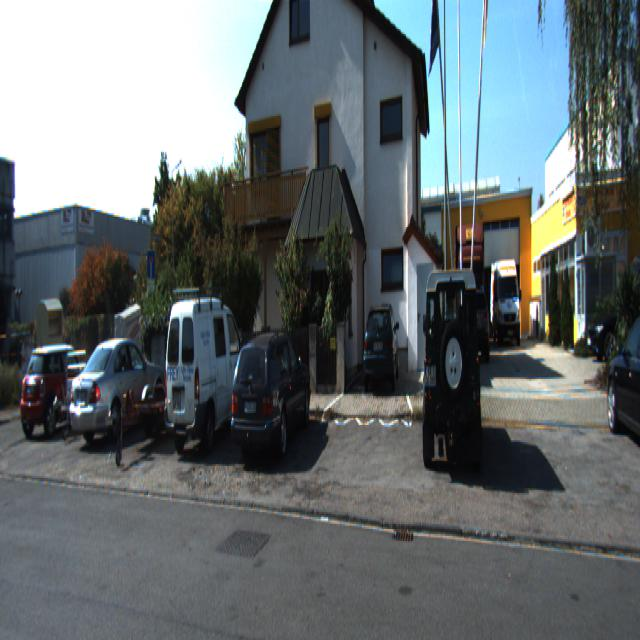Car: (162, 286, 255, 458), (423, 264, 487, 486), (83, 362, 218, 464), (66, 330, 167, 452), (228, 324, 313, 468), (18, 340, 98, 437), (40, 343, 110, 442), (604, 302, 639, 457), (452, 210, 484, 343), (362, 294, 400, 390), (489, 245, 524, 342), (109, 306, 141, 385), (465, 279, 494, 358)
